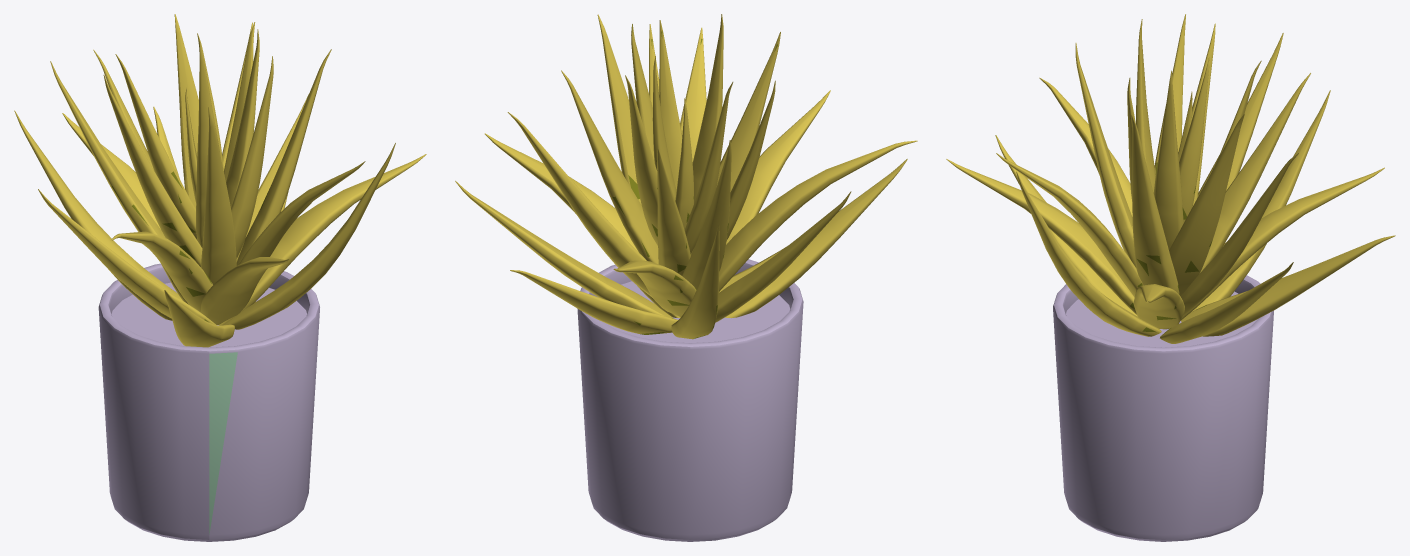
Rendered from 2plants.fbx.
3 views of the same model, side by side, from view 1: azimuth 30°, elevation 25°; view 2: azimuth 150°, elevation 25°; view 3: azimuth 270°, elevation 25° (orthographic). The views are drawn at different scales.
Visible parts, largest first — view 1: 000-0-2; view 2: 000-0-2; view 3: 000-0-2.
Boxes of the visible parts, x1,y1,x2,y2 form: 000-0-2: (14, 14, 426, 541); 000-0-2: (455, 14, 917, 541); 000-0-2: (946, 14, 1395, 541).
Size of the model in its own units: 145 by 177 by 151.
